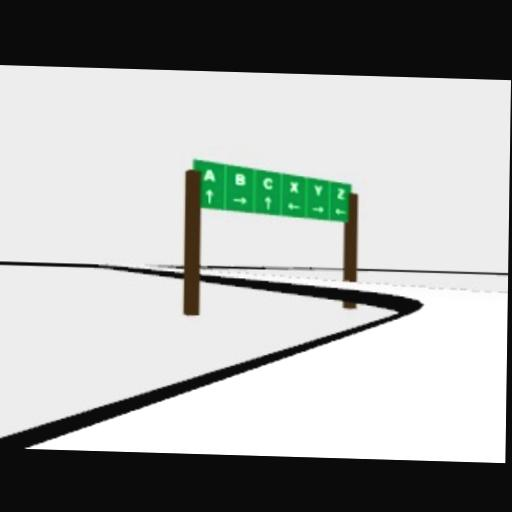A: (202, 168, 215, 181)
B: (233, 172, 246, 184)
C: (261, 176, 274, 188)
Left: (286, 200, 301, 208), (334, 206, 346, 214)
Right: (309, 204, 325, 213), (232, 195, 247, 203)
Straight: (203, 188, 213, 203), (263, 194, 271, 210)
X: (288, 178, 298, 191)
Y: (312, 182, 322, 195)
Z: (336, 186, 346, 198)
